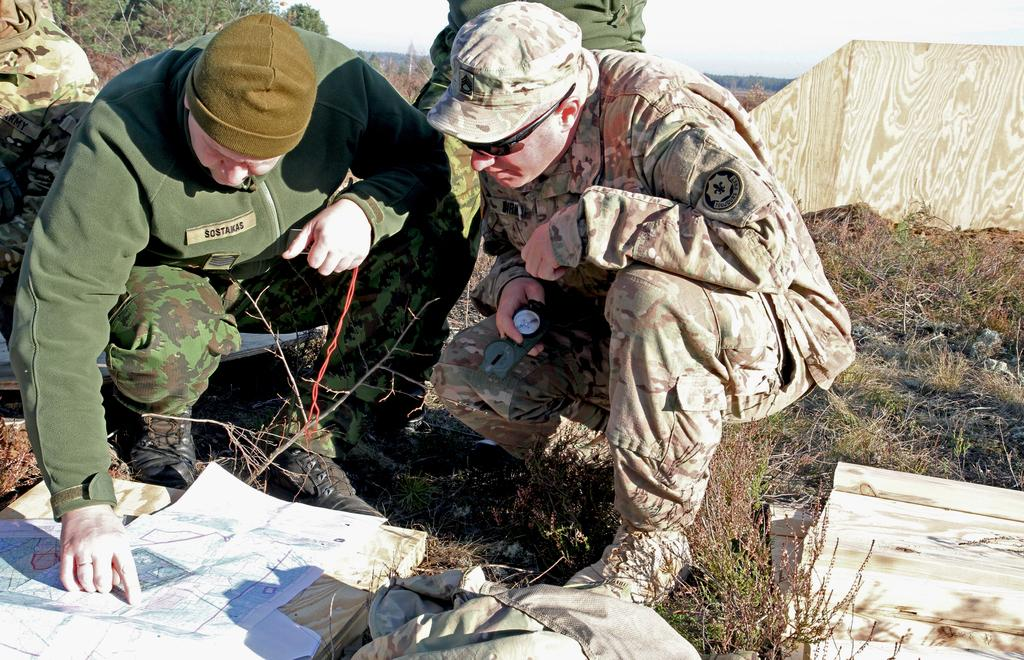Hat: (414, 0, 606, 149)
